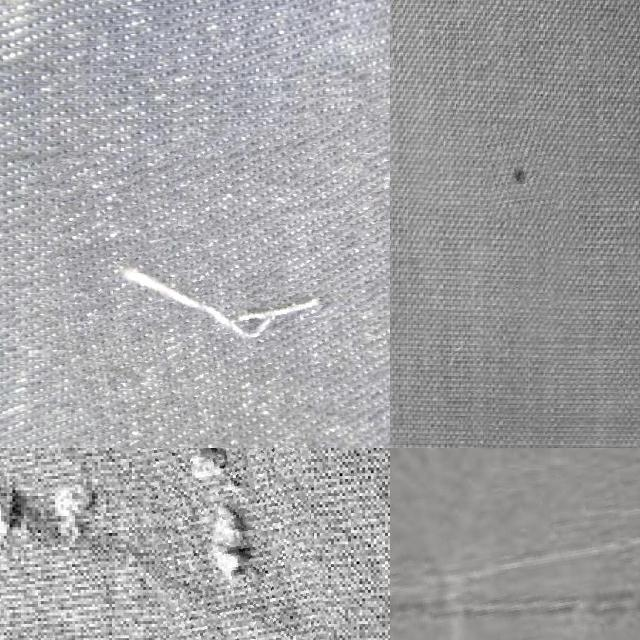other: (482, 121, 554, 220)
stains: (49, 117, 390, 448), (390, 448, 640, 640), (139, 448, 323, 640), (0, 448, 117, 640)
